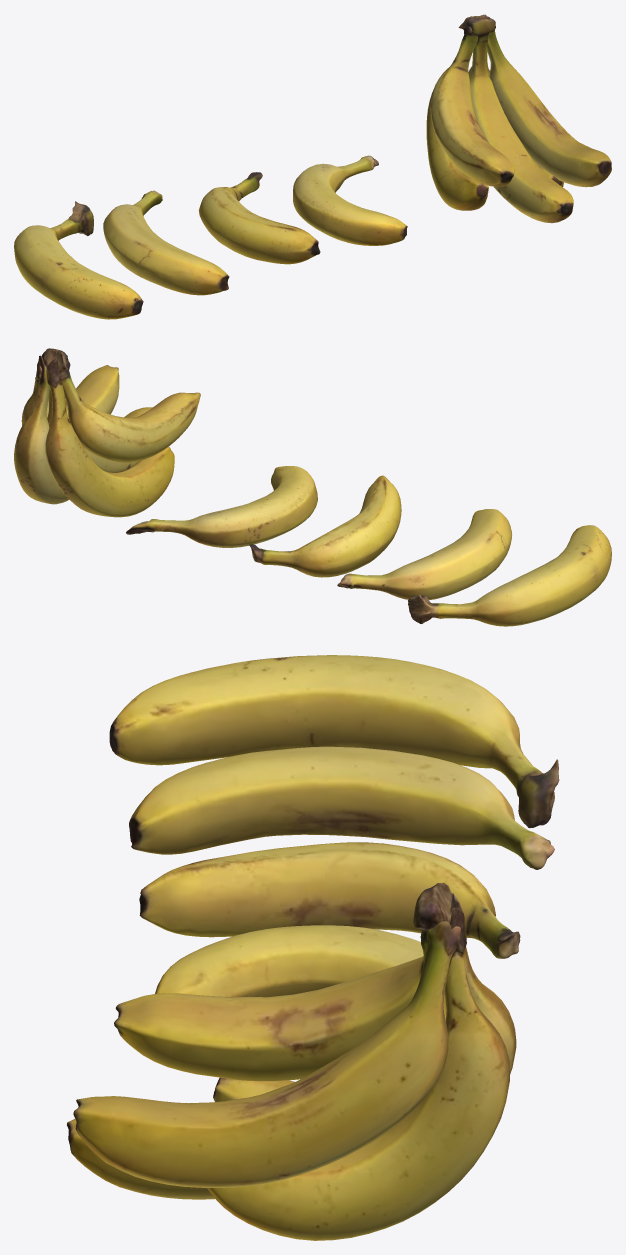
File: bananas.glb
The picture shows the model from 3 angles, top to bottom: view 1: azimuth 30°, elevation 25°; view 2: azimuth 150°, elevation 25°; view 3: azimuth 270°, elevation 25°; orthographic projection. The views are drawn at different scales.
Visible parts, largest first — view 1: bananas_bunch, bananas_d, bananas_c, bananas_a, bananas_b; view 2: bananas_bunch, bananas_d, bananas_c, bananas_a, bananas_b; view 3: bananas_bunch, bananas_d, bananas_c, bananas_b, bananas_a.
Boxes of the visible parts, <box> form: bananas_bunch: <box>426,14,611,223</box>; bananas_d: <box>14,201,143,319</box>; bananas_c: <box>103,190,229,295</box>; bananas_a: <box>293,155,407,245</box>; bananas_b: <box>198,172,320,264</box>; bananas_bunch: <box>14,348,200,517</box>; bananas_d: <box>408,525,611,626</box>; bananas_c: <box>337,509,511,600</box>; bananas_a: <box>126,466,317,547</box>; bananas_b: <box>249,475,401,577</box>; bananas_bunch: <box>67,883,516,1240</box>; bananas_d: <box>109,655,559,828</box>; bananas_c: <box>129,746,554,869</box>; bananas_b: <box>139,842,520,958</box>; bananas_a: <box>155,925,480,997</box>.
Bounding box in the file's own units: 0.6 × 0.1788 × 0.2441.
1 material, 1 textured.
